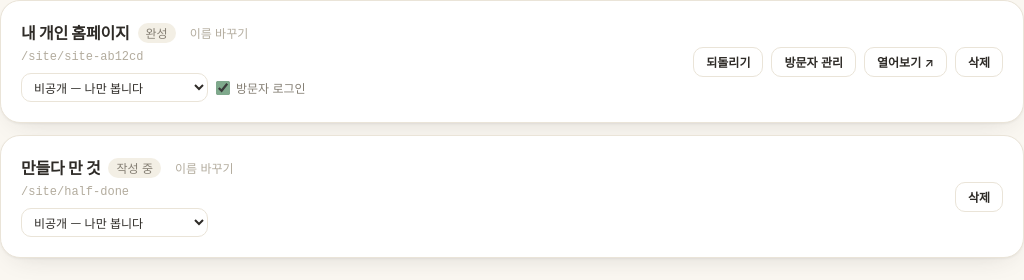
Scenario: [P4-4] ProjectList › 삭제는 한 번 더 확인받는다
Click the button "삭제" next to "열어보기 ↗" at {"x": 979, "y": 62}, box [955,46,1003,76]
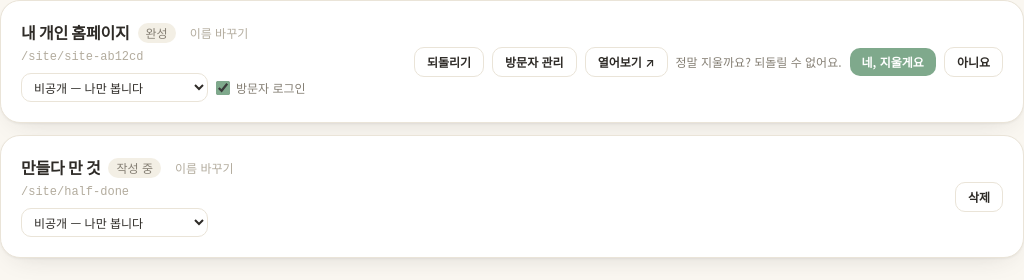
Expected: the text "정말 지울까요? 되돌릴 수 없어요." is shown, [676,54,842,70]
Click the button "아니요" at {"x": 973, "y": 62}, box [944,46,1003,76]
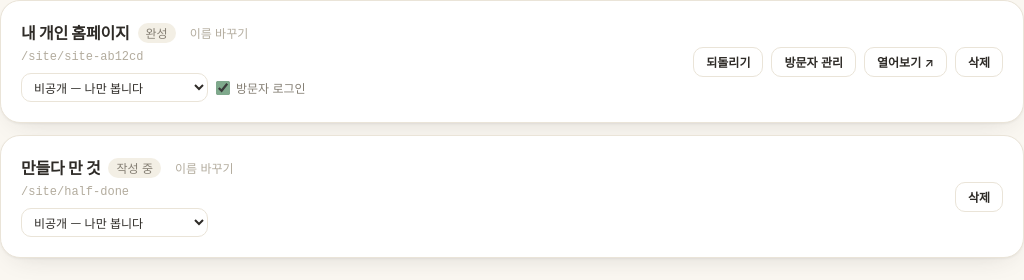
Expected: the text "정말 지울까요" is gone
